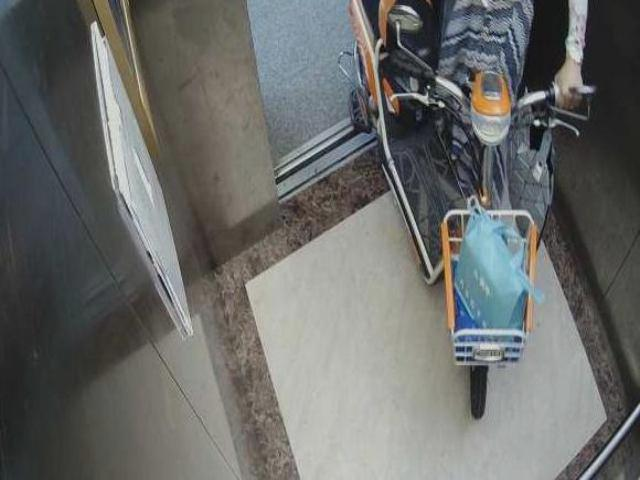emotor: (334, 4, 568, 427)
